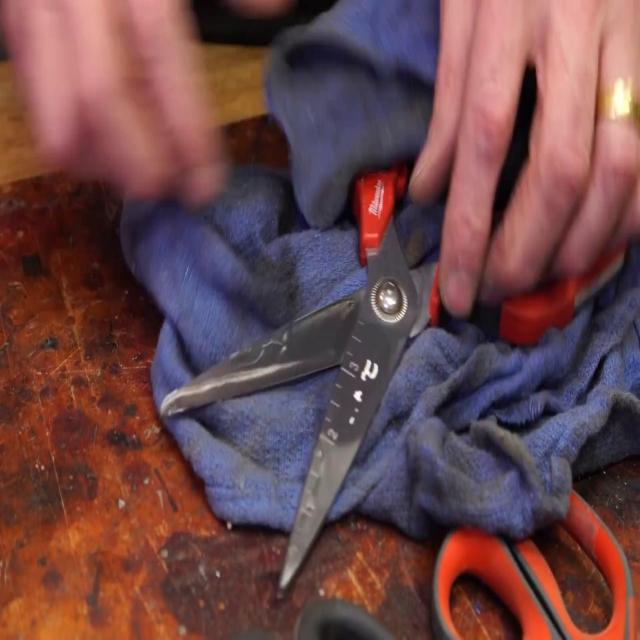scissor: (154, 148, 627, 596)
